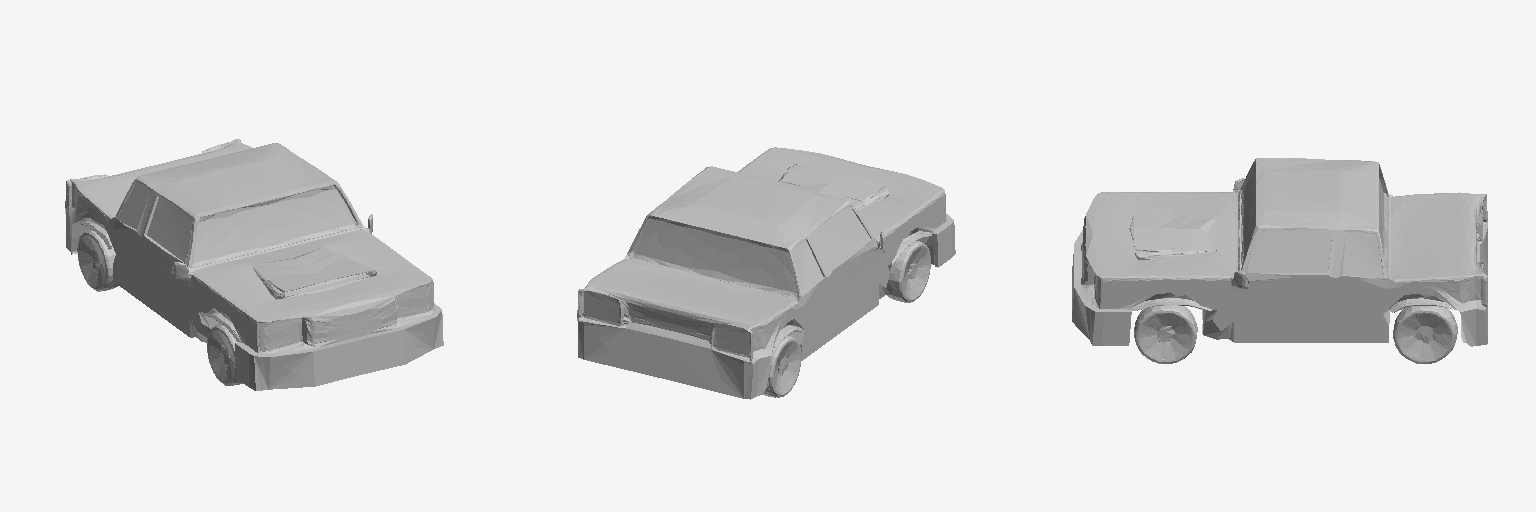
File: autocolor3.obj
3 views of the same model, side by side, from view 1: azimuth 30°, elevation 25°; view 2: azimuth 150°, elevation 25°; view 3: azimuth 270°, elevation 25° (orthographic).
Parts seen in each view (by area): view 1: Cube; view 2: Cube; view 3: Cube.
Boxes of the visible parts, x1,y1,x2,y2 form: Cube: [65, 139, 443, 390]; Cube: [577, 147, 955, 399]; Cube: [1072, 158, 1487, 363].
Bounding box in the file's own units: 4.59 × 2.87 × 8.32.